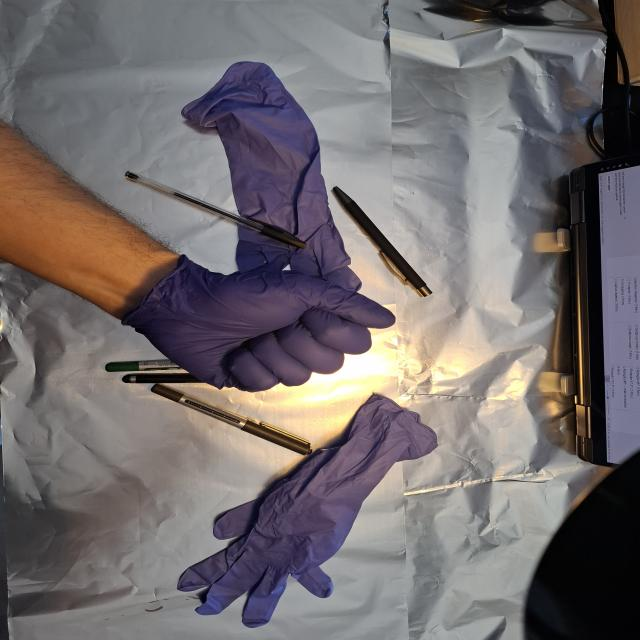glove_on: (127, 264, 402, 396)
